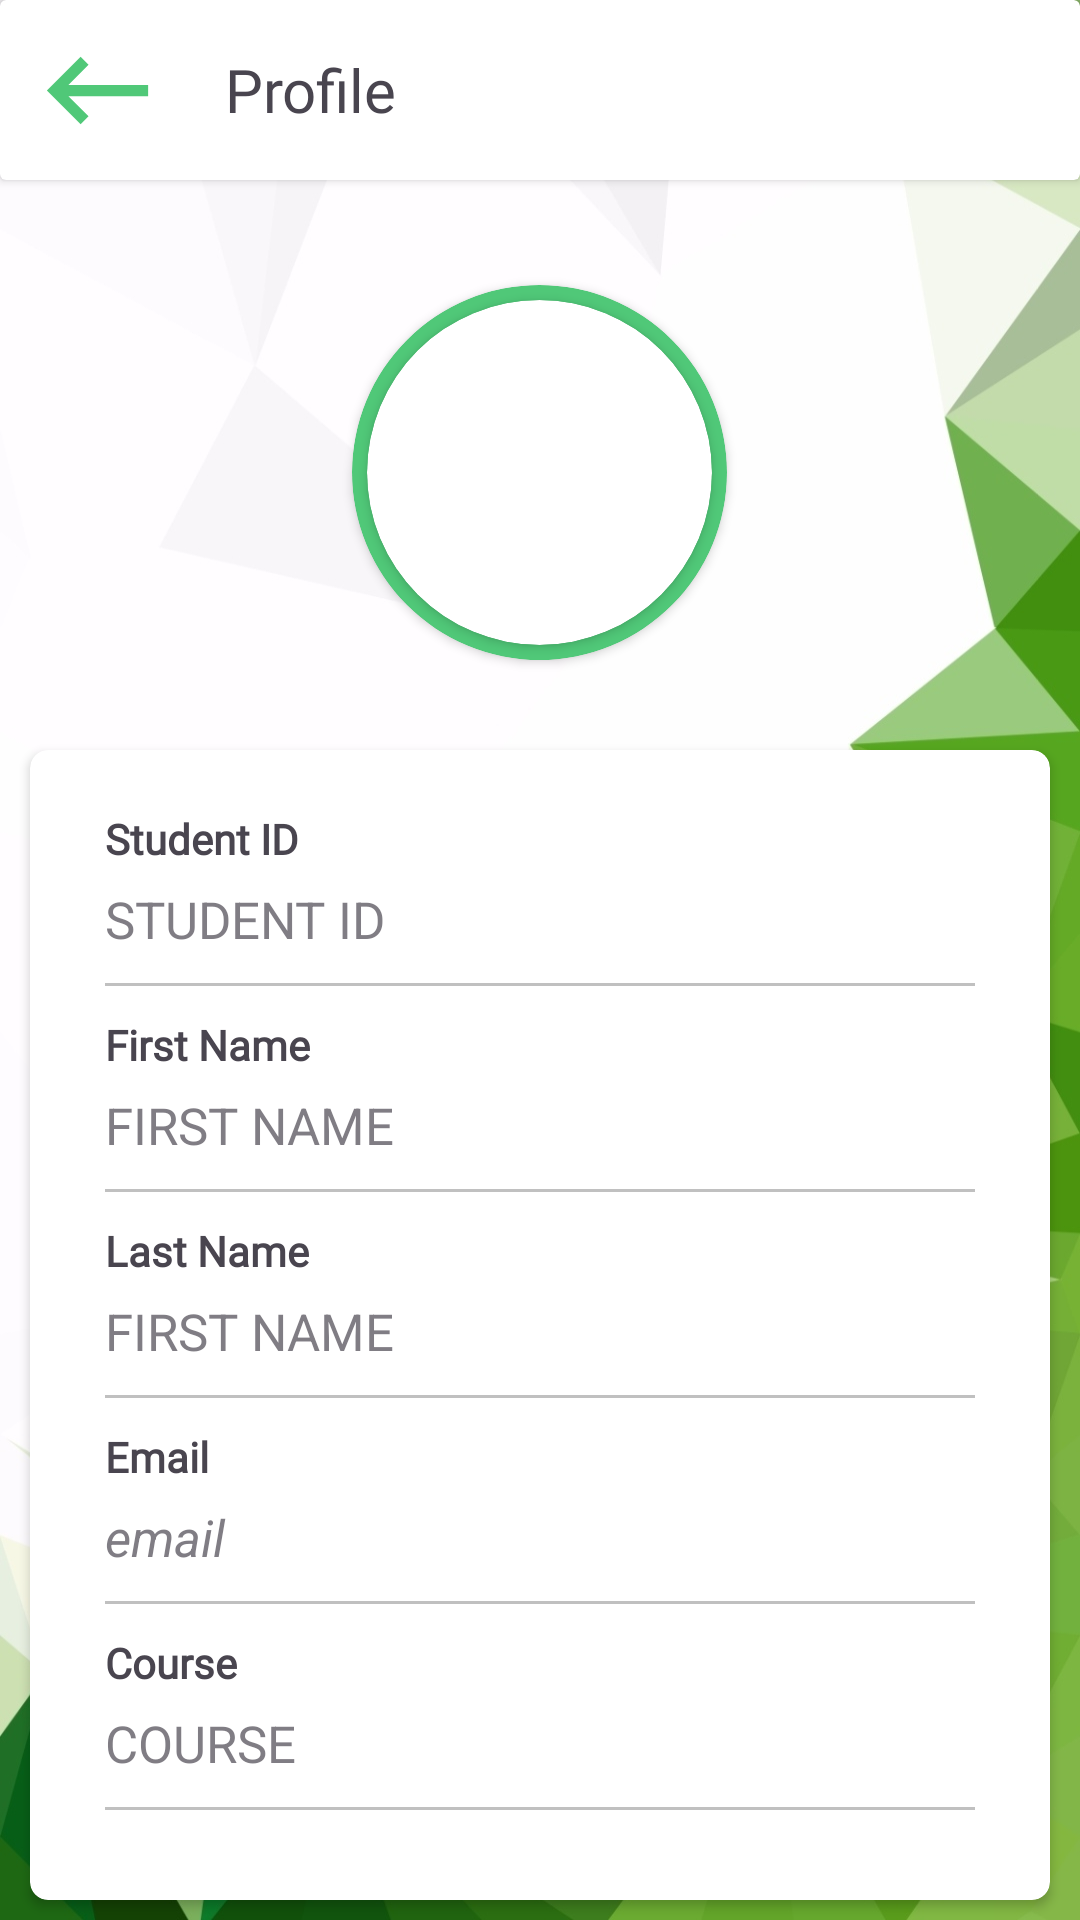

Icon bounding boxes for this 1080px x 1920px phone screenshot, format bbox(x1, y1, x2, y2):
keyboard backspace: bbox(47, 57, 148, 124)
